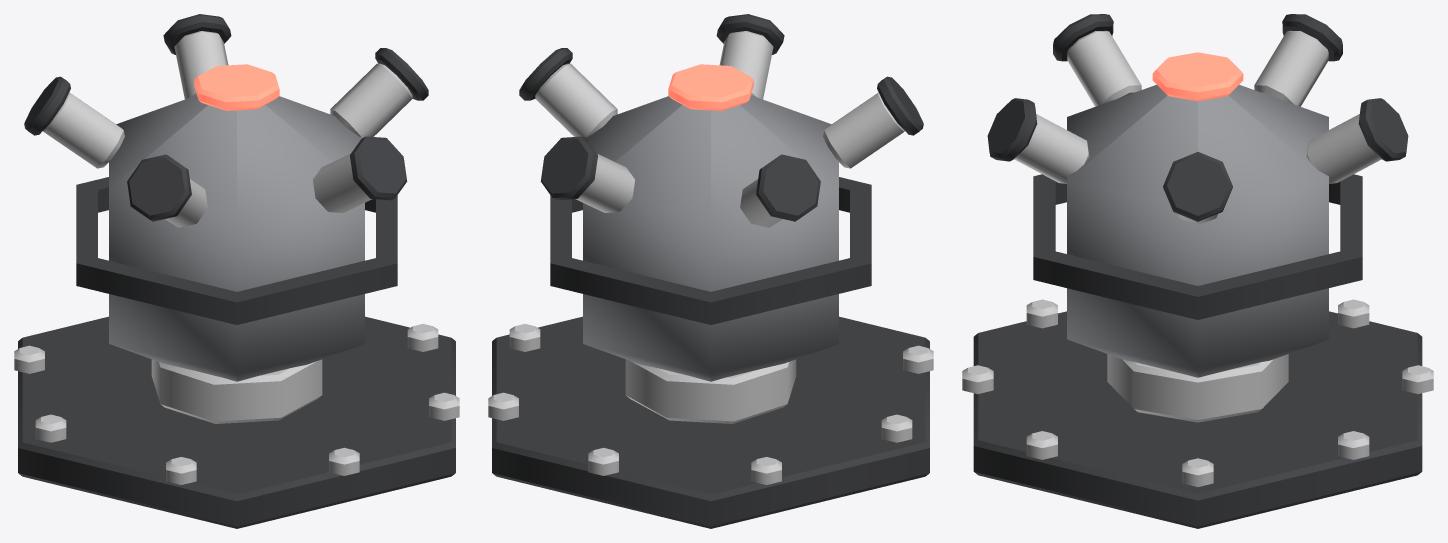
Rendered from R4D_ExplosiveTrap_LOD1.fbx.
3 renders of one model, left to right at view 1: azimuth 30°, elevation 25°; view 2: azimuth 150°, elevation 25°; view 3: azimuth 270°, elevation 25°, orthographic. The views are drawn at different scales.
Parts seen in each view (by area): view 1: R4D_ExplosiveTrap_LOD1; view 2: R4D_ExplosiveTrap_LOD1; view 3: R4D_ExplosiveTrap_LOD1.
Part boxes in pixels (left/top/right/bottom): R4D_ExplosiveTrap_LOD1: left=14, top=14, right=459, bottom=528; R4D_ExplosiveTrap_LOD1: left=488, top=14, right=933, bottom=528; R4D_ExplosiveTrap_LOD1: left=962, top=14, right=1433, bottom=528.
Size of the model in its own units: 0.4 by 0.3 by 0.3642.
